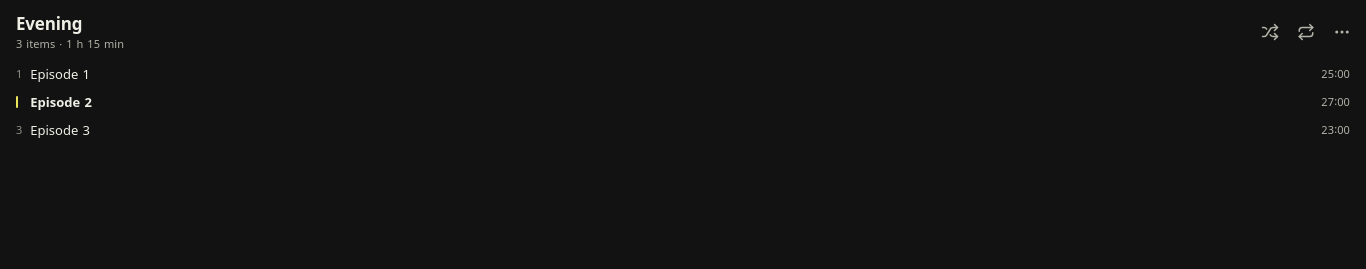
it: the playlist's menu › renames and deletes the saved playlist that is open, and only that one
Step 1. Click the button named "Playlist menu" → (1342, 32), box [1326,16,1358,48]
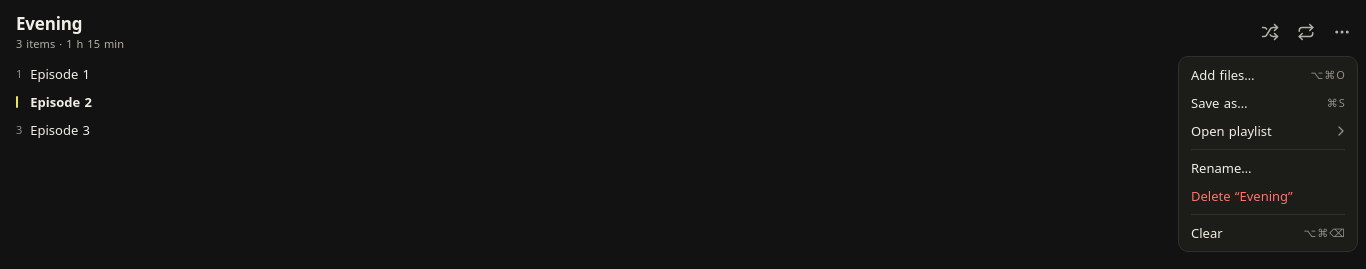
Step 2. Click the menu item "Rename…" → (1221, 168), box [1191,159,1252,177]
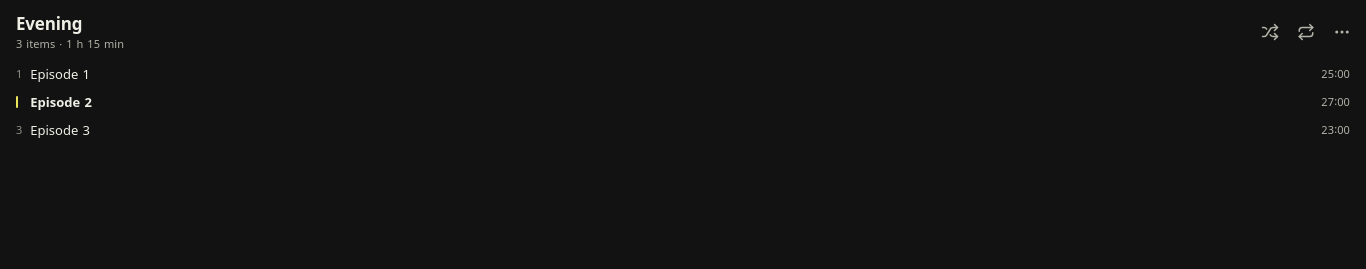
Step 3. Click the button named "Playlist menu" → (1342, 32), box [1326,16,1358,48]
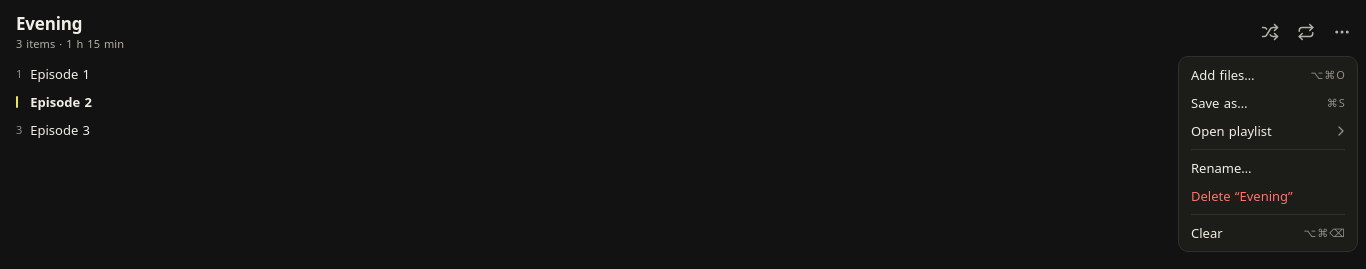
Step 4. Click the menu item "Delete “Evening”" → (1242, 196), box [1191,187,1293,205]
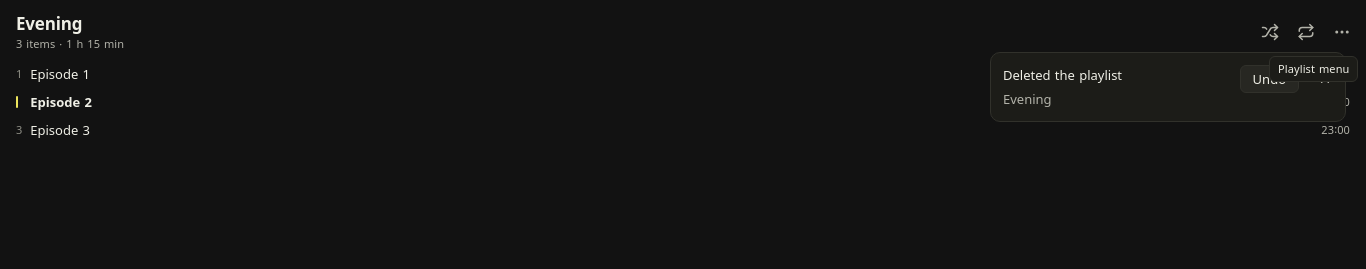
expect the text "Deleted the playlist" is shown: met, box [1003,66,1122,84]
